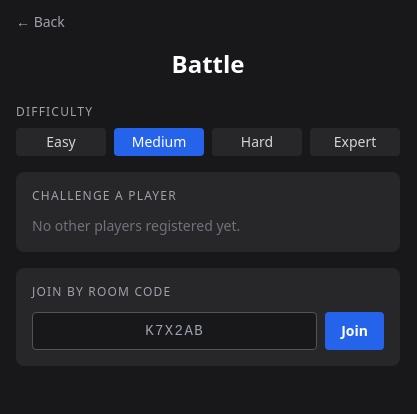
Test: BattleMenu › shows error when join code is too short
Click the button "Join": click(355, 331) 325,312 -> 384,350
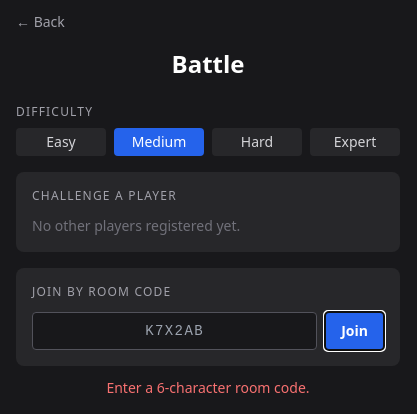
Expected: the text "Enter a 6-character room code." is shown, 106,378 -> 310,397
